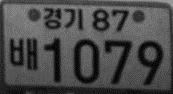0: (74, 38, 99, 84)
1: (42, 37, 64, 82)
7: (105, 39, 133, 86), (111, 9, 129, 31)
8: (92, 8, 109, 31)
9: (137, 40, 163, 85)
경기_H: (44, 6, 83, 31)
배: (9, 37, 37, 71)
